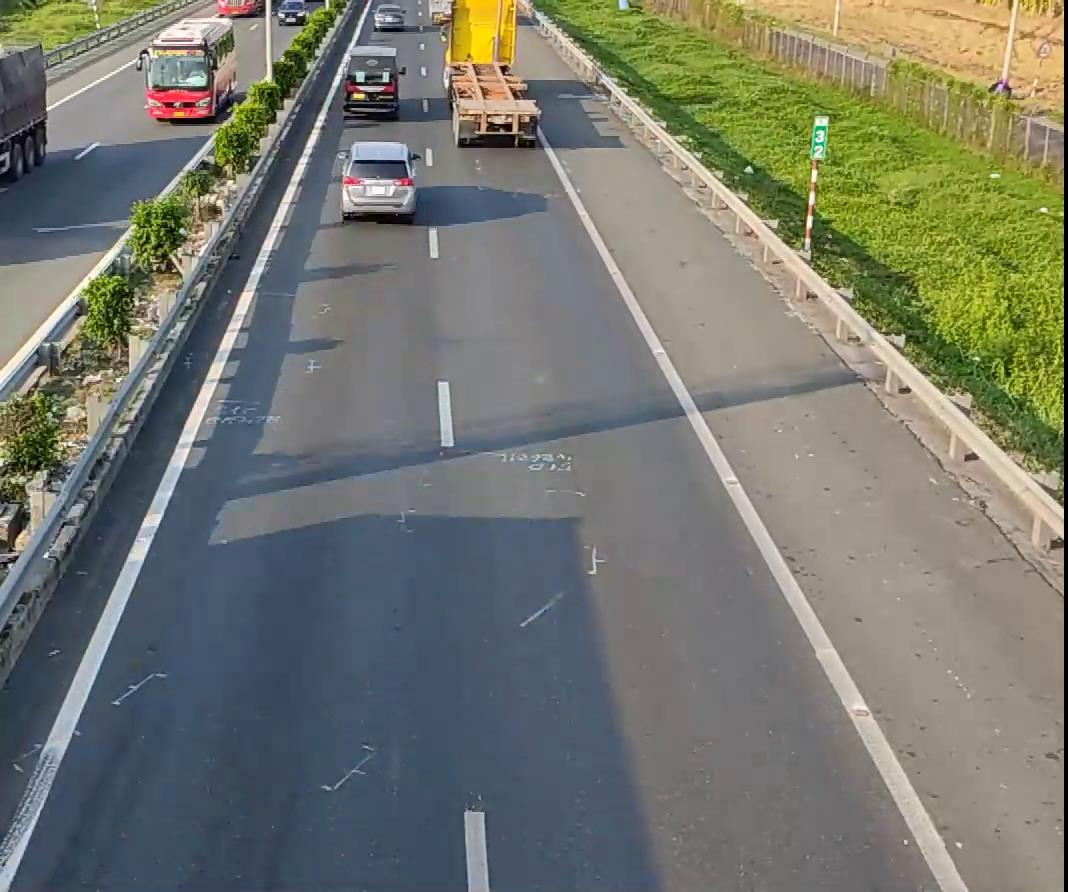bus: (142, 17, 239, 120)
car: (337, 139, 419, 220)
container: (442, 0, 540, 146)
truck: (0, 40, 48, 204)
